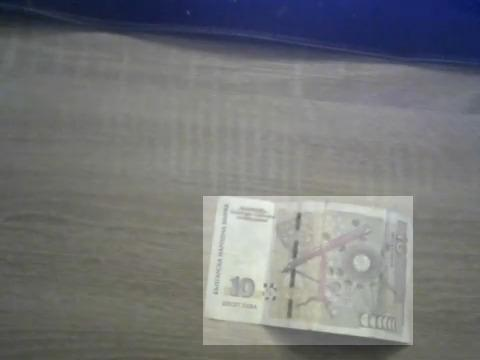10leva: (203, 196, 413, 345)
